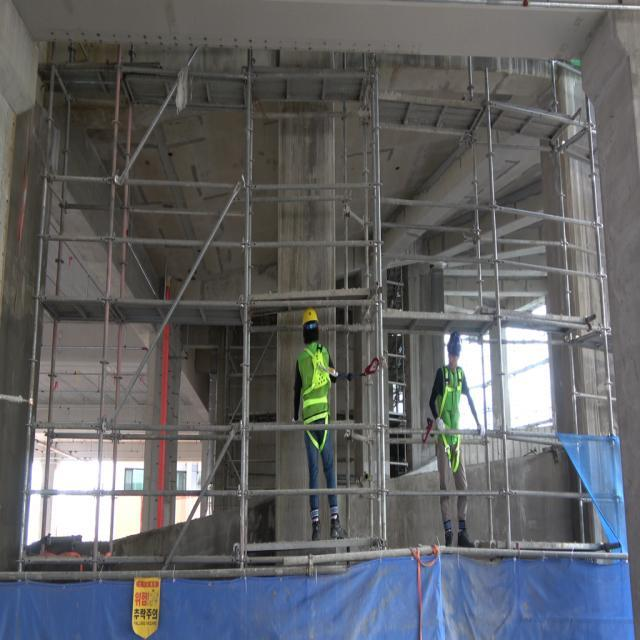belt: (303, 346, 329, 452), (442, 367, 462, 472)
